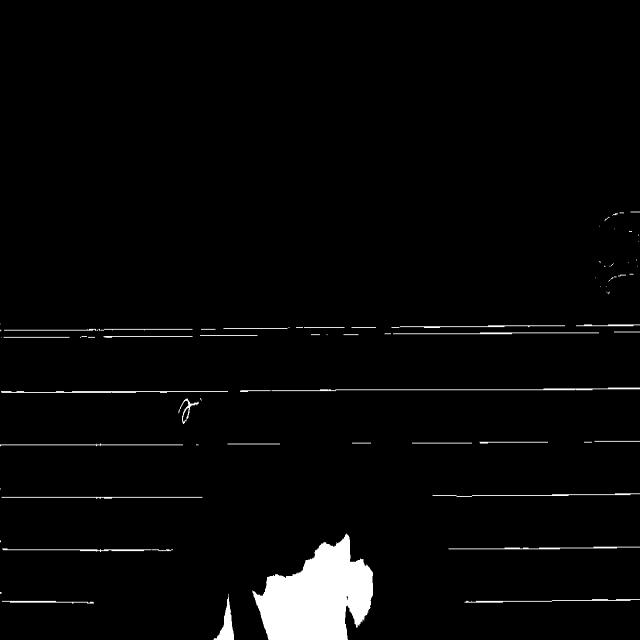hand: (254, 535, 372, 639), (216, 596, 234, 639)
noise: (0, 386, 640, 395), (0, 327, 292, 338), (383, 324, 640, 333), (430, 491, 640, 498), (448, 545, 640, 551), (464, 597, 640, 603), (0, 547, 172, 553), (0, 494, 203, 499), (294, 326, 377, 336), (0, 442, 185, 446), (410, 439, 550, 444), (0, 599, 94, 604), (226, 441, 280, 446), (582, 439, 640, 443), (351, 441, 371, 444)
not-noise: (178, 398, 199, 424)
page-marker: (596, 212, 640, 295)
